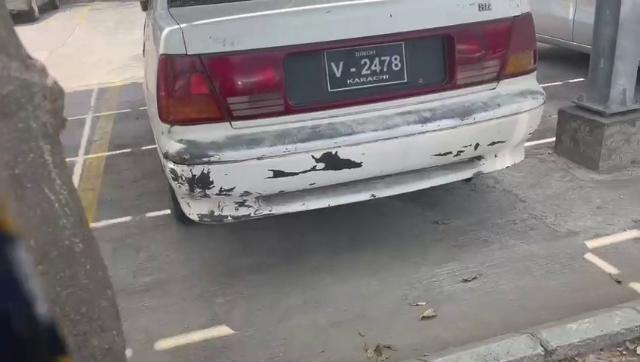plate: (329, 42, 404, 90)
